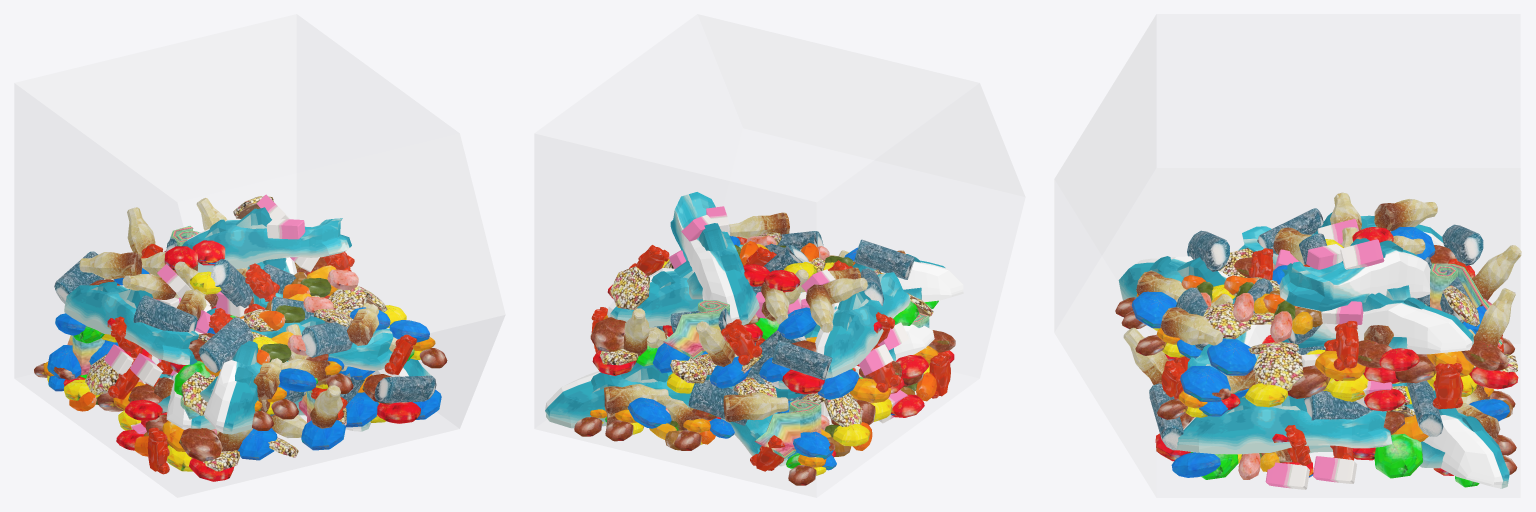
The picture shows the model from 3 angles, left to right: view 1: azimuth 30°, elevation 25°; view 2: azimuth 150°, elevation 25°; view 3: azimuth 270°, elevation 25°; orthographic projection. The views are drawn at different scales.
Visible parts, largest first — view 1: Cube, Cube.042, Cube.028, Cube.044, Cube.048, Cylinder.018, Cylinder.012, Cylinder.009, Cylinder.014, D.011, Cylinder.017, Sphere.067 (+37 smaller); view 2: Cube, Cube.042, Cube.028, Cube.020, Cube.046, Cube.052, Cube.049, Cube.044, D.007, Cylinder.019, Cylinder.018, Sphere.128 (+39 smaller); view 3: Cube, Cube.004, Cube.042, Cube.046, Cube.020, Sphere.121, Sphere.045, D.018, D.011, Cube.049, Sphere.178, Sphere.164 (+52 smaller).
Boxes of the visible parts, bbox=[...] form: Cube: bbox=[15, 14, 504, 496]; Cube.042: bbox=[182, 218, 351, 272]; Cube.028: bbox=[64, 285, 198, 364]; Cube.044: bbox=[203, 359, 261, 434]; Cube.048: bbox=[241, 318, 393, 370]; Cylinder.018: bbox=[198, 317, 253, 372]; Cylinder.012: bbox=[133, 295, 197, 331]; Cylinder.009: bbox=[374, 375, 436, 402]; Cylinder.014: bbox=[301, 322, 352, 357]; D.011: bbox=[79, 252, 142, 279]; Cylinder.017: bbox=[210, 259, 253, 307]; Sphere.067: bbox=[179, 428, 222, 461]; Cube: bbox=[535, 15, 1024, 497]; Cube.042: bbox=[670, 192, 759, 325]; Cube.028: bbox=[815, 272, 910, 378]; Cube.020: bbox=[545, 371, 690, 428]; Cube.046: bbox=[607, 268, 756, 327]; Cube.052: bbox=[754, 399, 821, 458]; Cube.049: bbox=[663, 300, 729, 358]; Cube.044: bbox=[880, 260, 963, 302]; D.007: bbox=[723, 392, 788, 421]; Cylinder.019: bbox=[772, 340, 832, 380]; Cylinder.018: bbox=[854, 239, 914, 279]; Sphere.128: bbox=[610, 266, 649, 309]; Cube: bbox=[1055, 14, 1519, 497]; Cube.004: bbox=[1177, 399, 1392, 454]; Cube.042: bbox=[1279, 245, 1430, 311]; Cube.046: bbox=[1281, 300, 1473, 354]; Cube.020: bbox=[1404, 404, 1509, 488]; Sphere.121: bbox=[1253, 343, 1303, 389]; Sphere.045: bbox=[1374, 433, 1422, 478]; D.018: bbox=[1160, 307, 1223, 345]; D.011: bbox=[1374, 199, 1437, 231]; Cube.049: bbox=[1430, 263, 1491, 310]; Sphere.178: bbox=[1207, 339, 1256, 375]; Sphere.164: bbox=[1180, 366, 1230, 402].
Bounding box in the file's own units: 2 × 2.01 × 2.57.
Materials: 35 (34 with a texture image).
